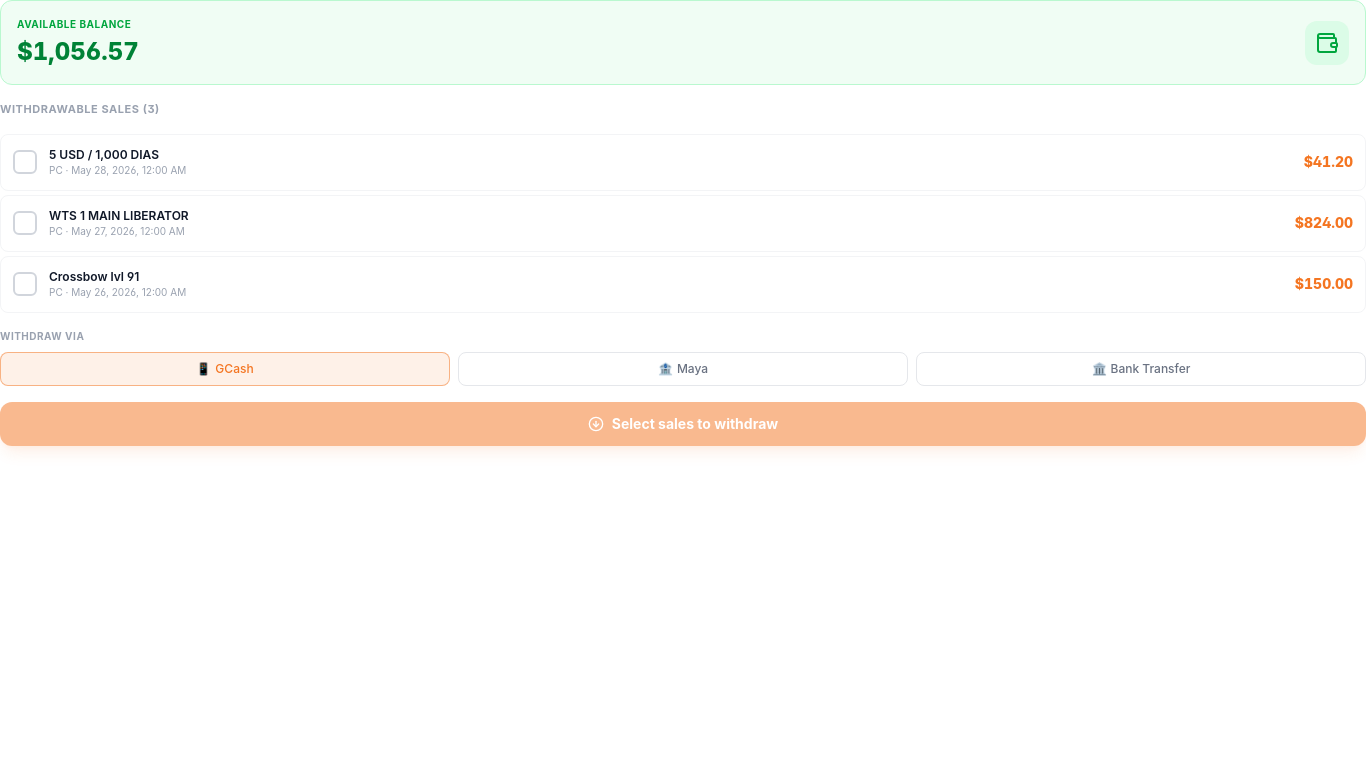
Test: WithdrawalPanel › opens confirmation modal on withdraw click
# Select an item first
Click the button "5 USD / 1,000 DIAS".
click(104, 154)  # box [0,134,1365,190]
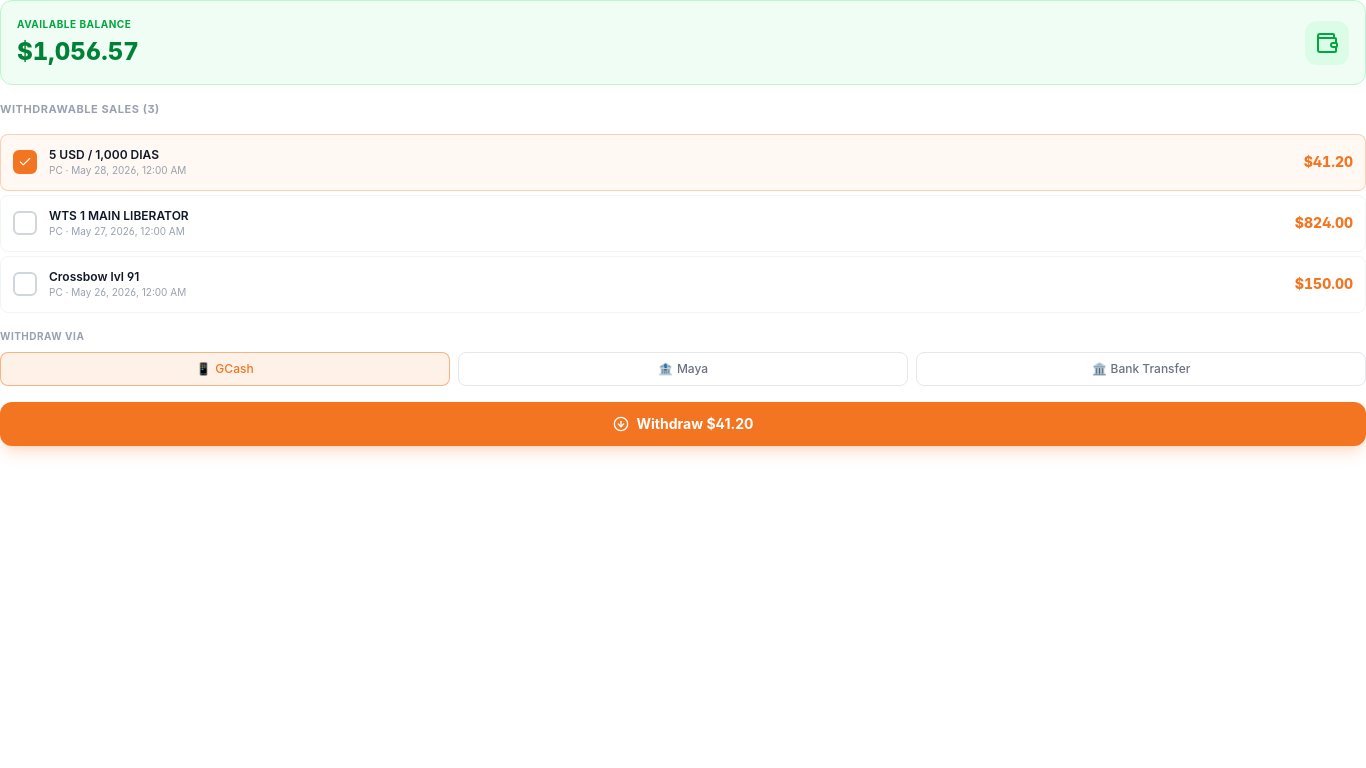
# Click withdraw button
Click the button "Withdraw $41.20".
click(683, 424)  # box [0,402,1365,446]
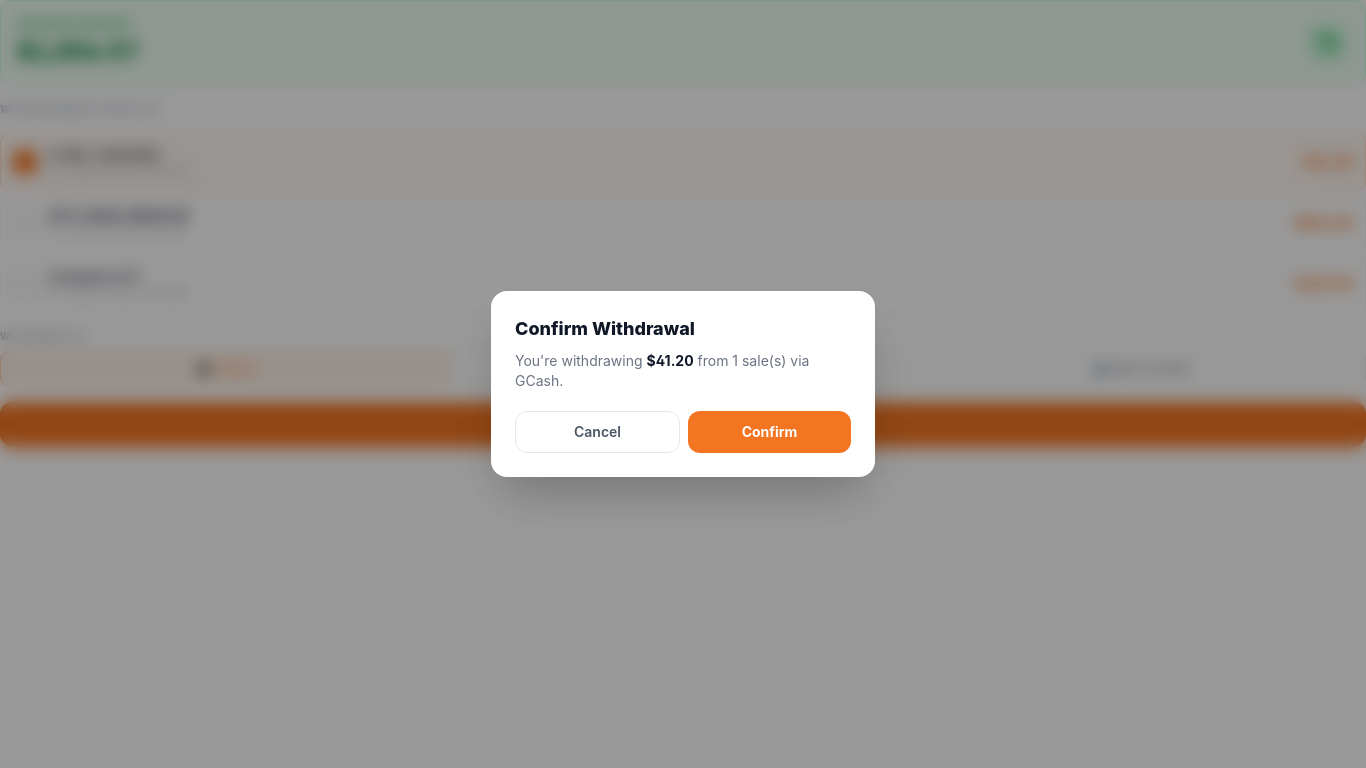
Expected: the heading "Confirm Withdrawal" is shown, [515,318,695,339]
